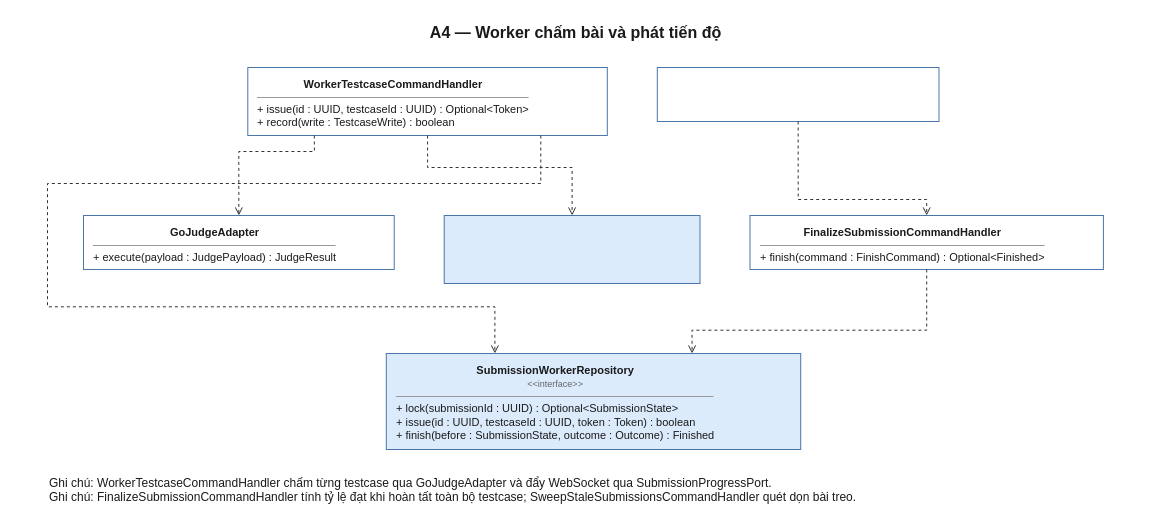
The diagram is 1164 pixels wide and 530 high, and some of its shapes have lost their labels. The box of each missing label's shape, as (x1, y1, x2, y2) in pixels:
SubmissionProgressPort <<interface>> + publish(progress : TestcaseProgress): (443, 214, 700, 284)
SweepStaleSubmissionsCommandHandler + sweep(now : Instant) : int: (656, 66, 939, 122)
